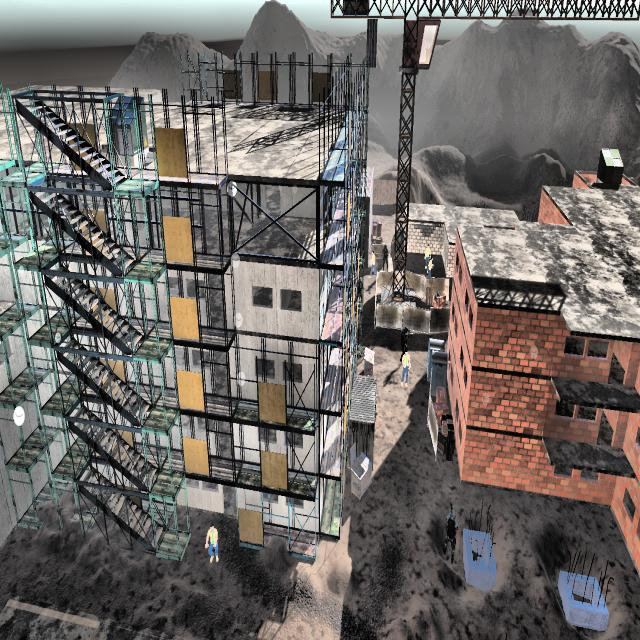bad: (441, 495, 462, 572), (400, 318, 410, 361), (380, 235, 390, 275)
good: (203, 516, 224, 573), (399, 347, 412, 391), (369, 245, 378, 284), (424, 254, 435, 279), (422, 239, 431, 267)
